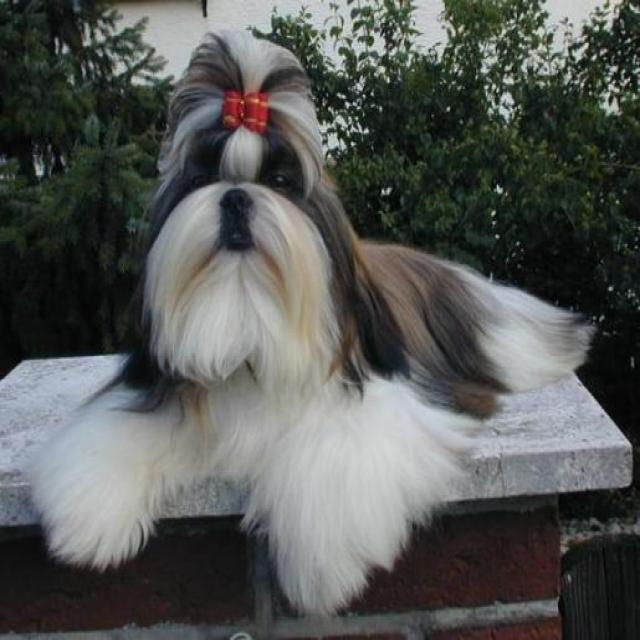husky: (37, 33, 594, 613)
